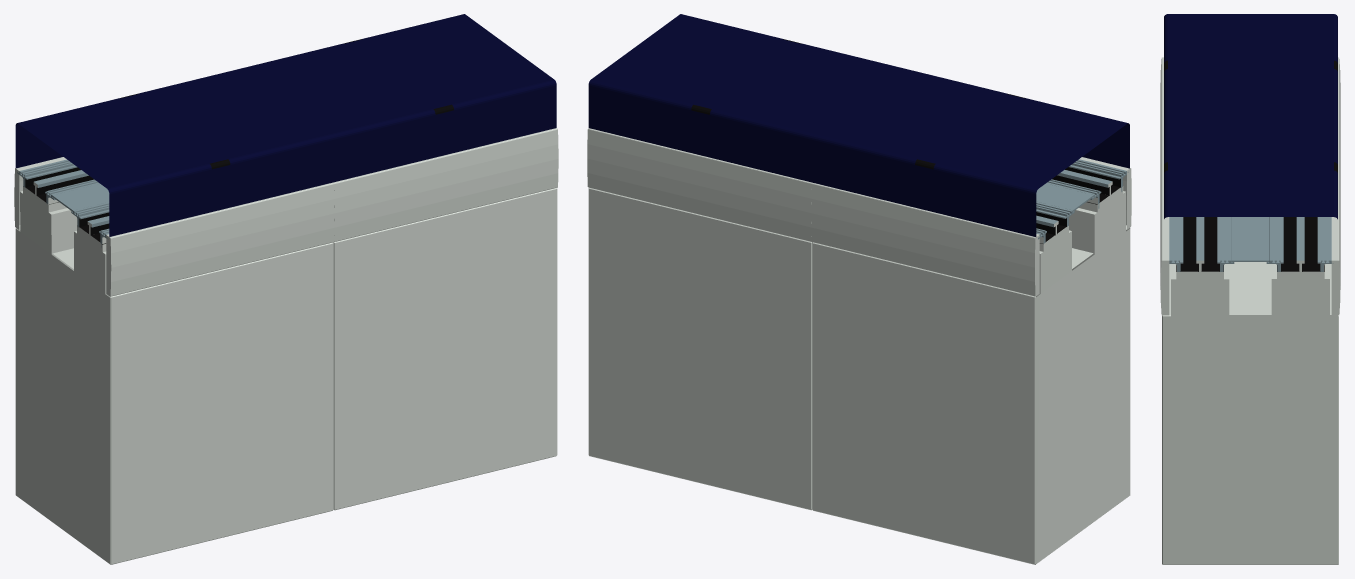
The model's file is Automation Track.obj.
3 views of the same model, side by side, from view 1: azimuth 30°, elevation 25°; view 2: azimuth 150°, elevation 25°; view 3: azimuth 270°, elevation 25° (orthographic). The views are drawn at different scales.
Parts seen in each view (by area): view 1: object1, object4, object2, object3; view 2: object1, object4, object2, object3; view 3: object1, object4, object2, object3.
Part boxes in pixels (box(x1,y1,x2,y2)): object1: box(14, 128, 558, 564); object4: box(15, 14, 556, 236); object2: box(17, 159, 109, 247); object3: box(25, 167, 109, 244); object1: box(587, 128, 1131, 564); object4: box(588, 14, 1129, 236); object2: box(1036, 159, 1128, 243); object3: box(1036, 167, 1120, 243); object1: box(1160, 57, 1340, 564); object4: box(1164, 14, 1337, 219); object2: box(1169, 217, 1333, 271); object3: box(1176, 217, 1324, 271).
Bounding box in the file's own units: 52.9 × 42.31 × 19.83.
